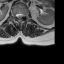CCS_normal: (18, 11, 20, 21)
LFS_normal: (23, 11, 25, 19)
LLS_normal: (20, 11, 23, 20)
RFS_normal: (13, 11, 15, 19)
RLS_normal: (15, 11, 18, 19)
